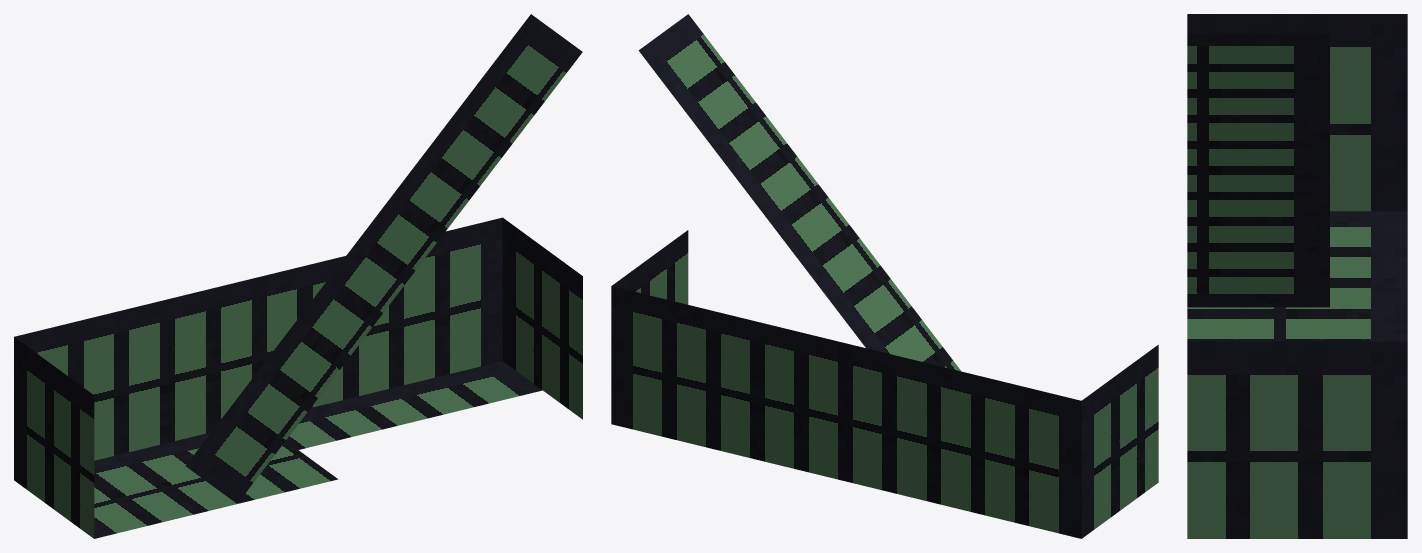
The picture shows the model from 3 angles, left to right: view 1: azimuth 30°, elevation 25°; view 2: azimuth 150°, elevation 25°; view 3: azimuth 270°, elevation 25°; orthographic projection. The views are drawn at different scales.
Visible parts, largest first — view 1: balcony-ladder-bottom; view 2: balcony-ladder-bottom; view 3: balcony-ladder-bottom.
Boxes of the visible parts, bbox=[...] form: balcony-ladder-bottom: bbox=[14, 14, 582, 538]; balcony-ladder-bottom: bbox=[611, 14, 1158, 538]; balcony-ladder-bottom: bbox=[1187, 14, 1407, 538].
Bounding box in the file's own units: 1 × 0.7192 × 0.2837.
1 material, 1 textured.
